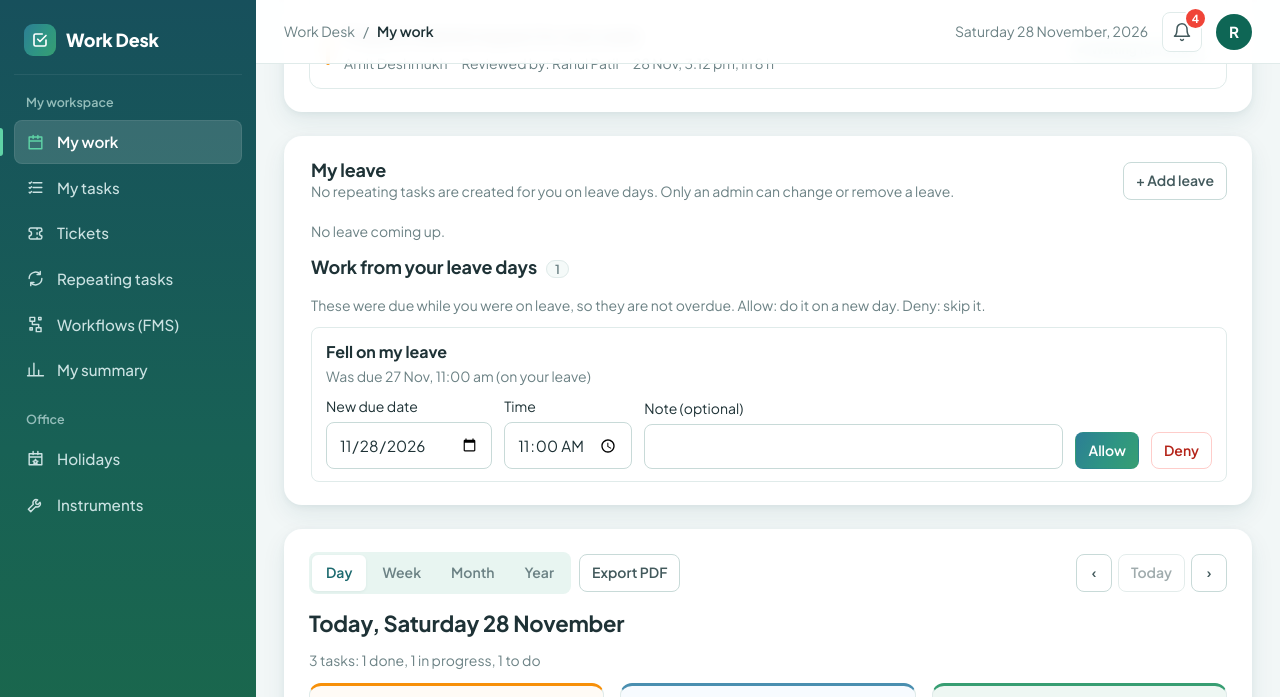
Test: leave on My work › shows the leave and lets the employee move a task that fell on it
(page scrolled)
Click the button "Allow": [1107, 451] box left=1076, top=432, right=1139, bottom=469
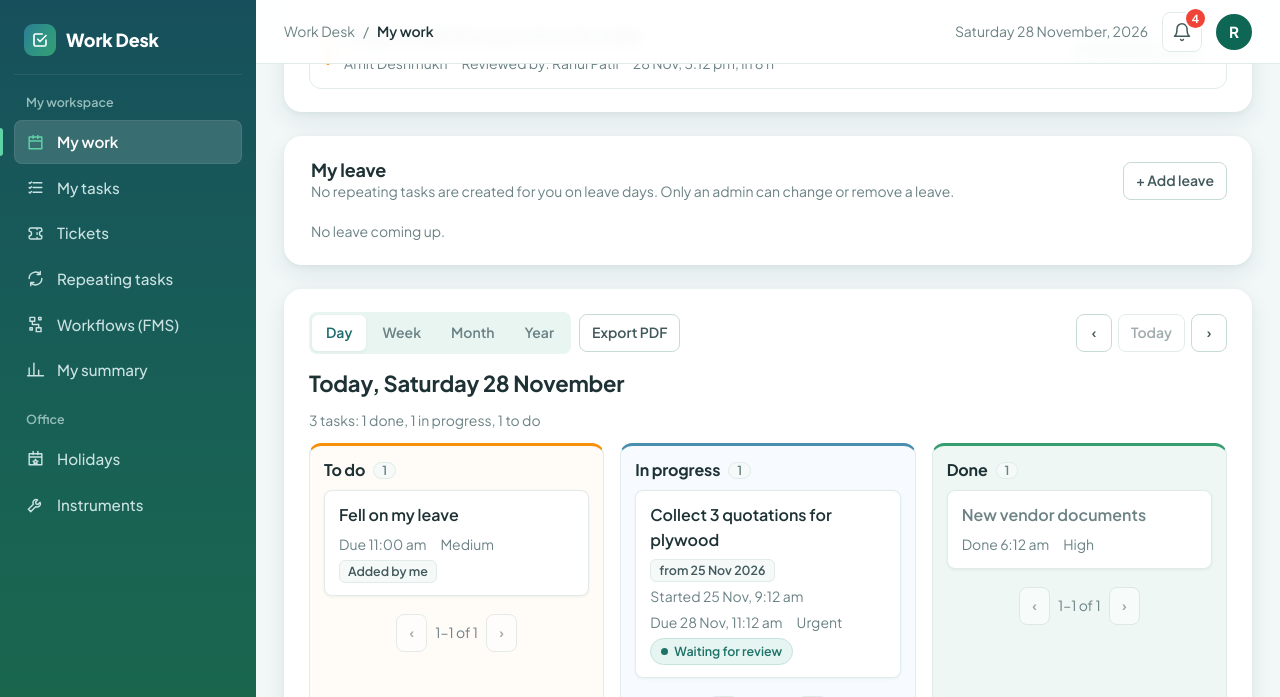
Check: the heading "Work from your leave days" is gone
